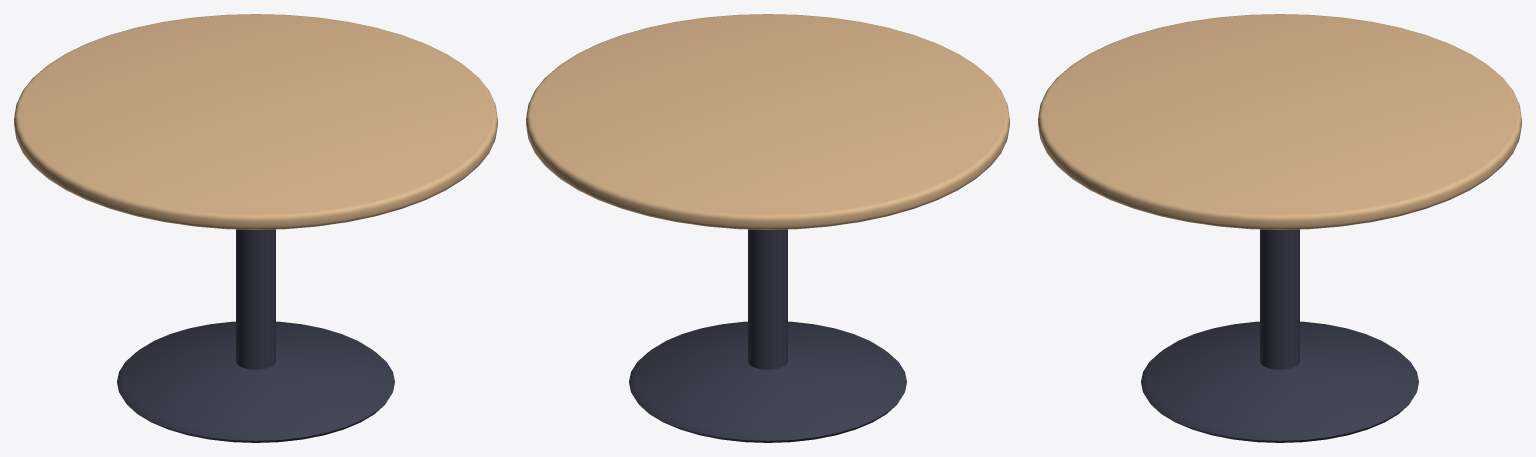
File: table_round.glb
3 views of the same model, side by side, from view 1: azimuth 30°, elevation 25°; view 2: azimuth 150°, elevation 25°; view 3: azimuth 270°, elevation 25° (orthographic).
Parts seen in each view (by area): view 1: oak, charcoal; view 2: oak, charcoal; view 3: oak, charcoal.
Boxes of the visible parts, <box> form: oak: <box>14,14,497,229</box>; charcoal: <box>117,229,394,442</box>; oak: <box>526,14,1009,229</box>; charcoal: <box>629,229,906,442</box>; oak: <box>1038,14,1521,229</box>; charcoal: <box>1141,229,1418,442</box>.
Size of the model in its own units: 1.2 by 0.74 by 1.2.
